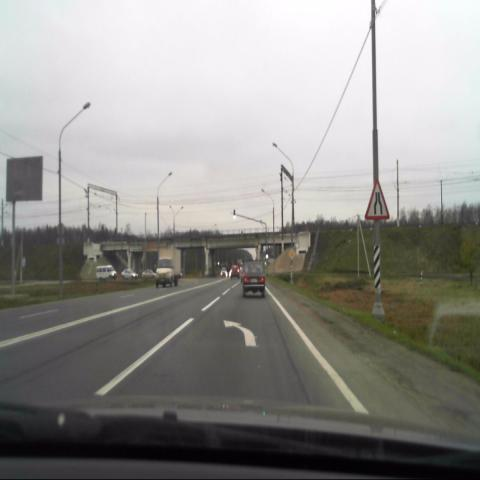1_20: (364, 180, 389, 220)
